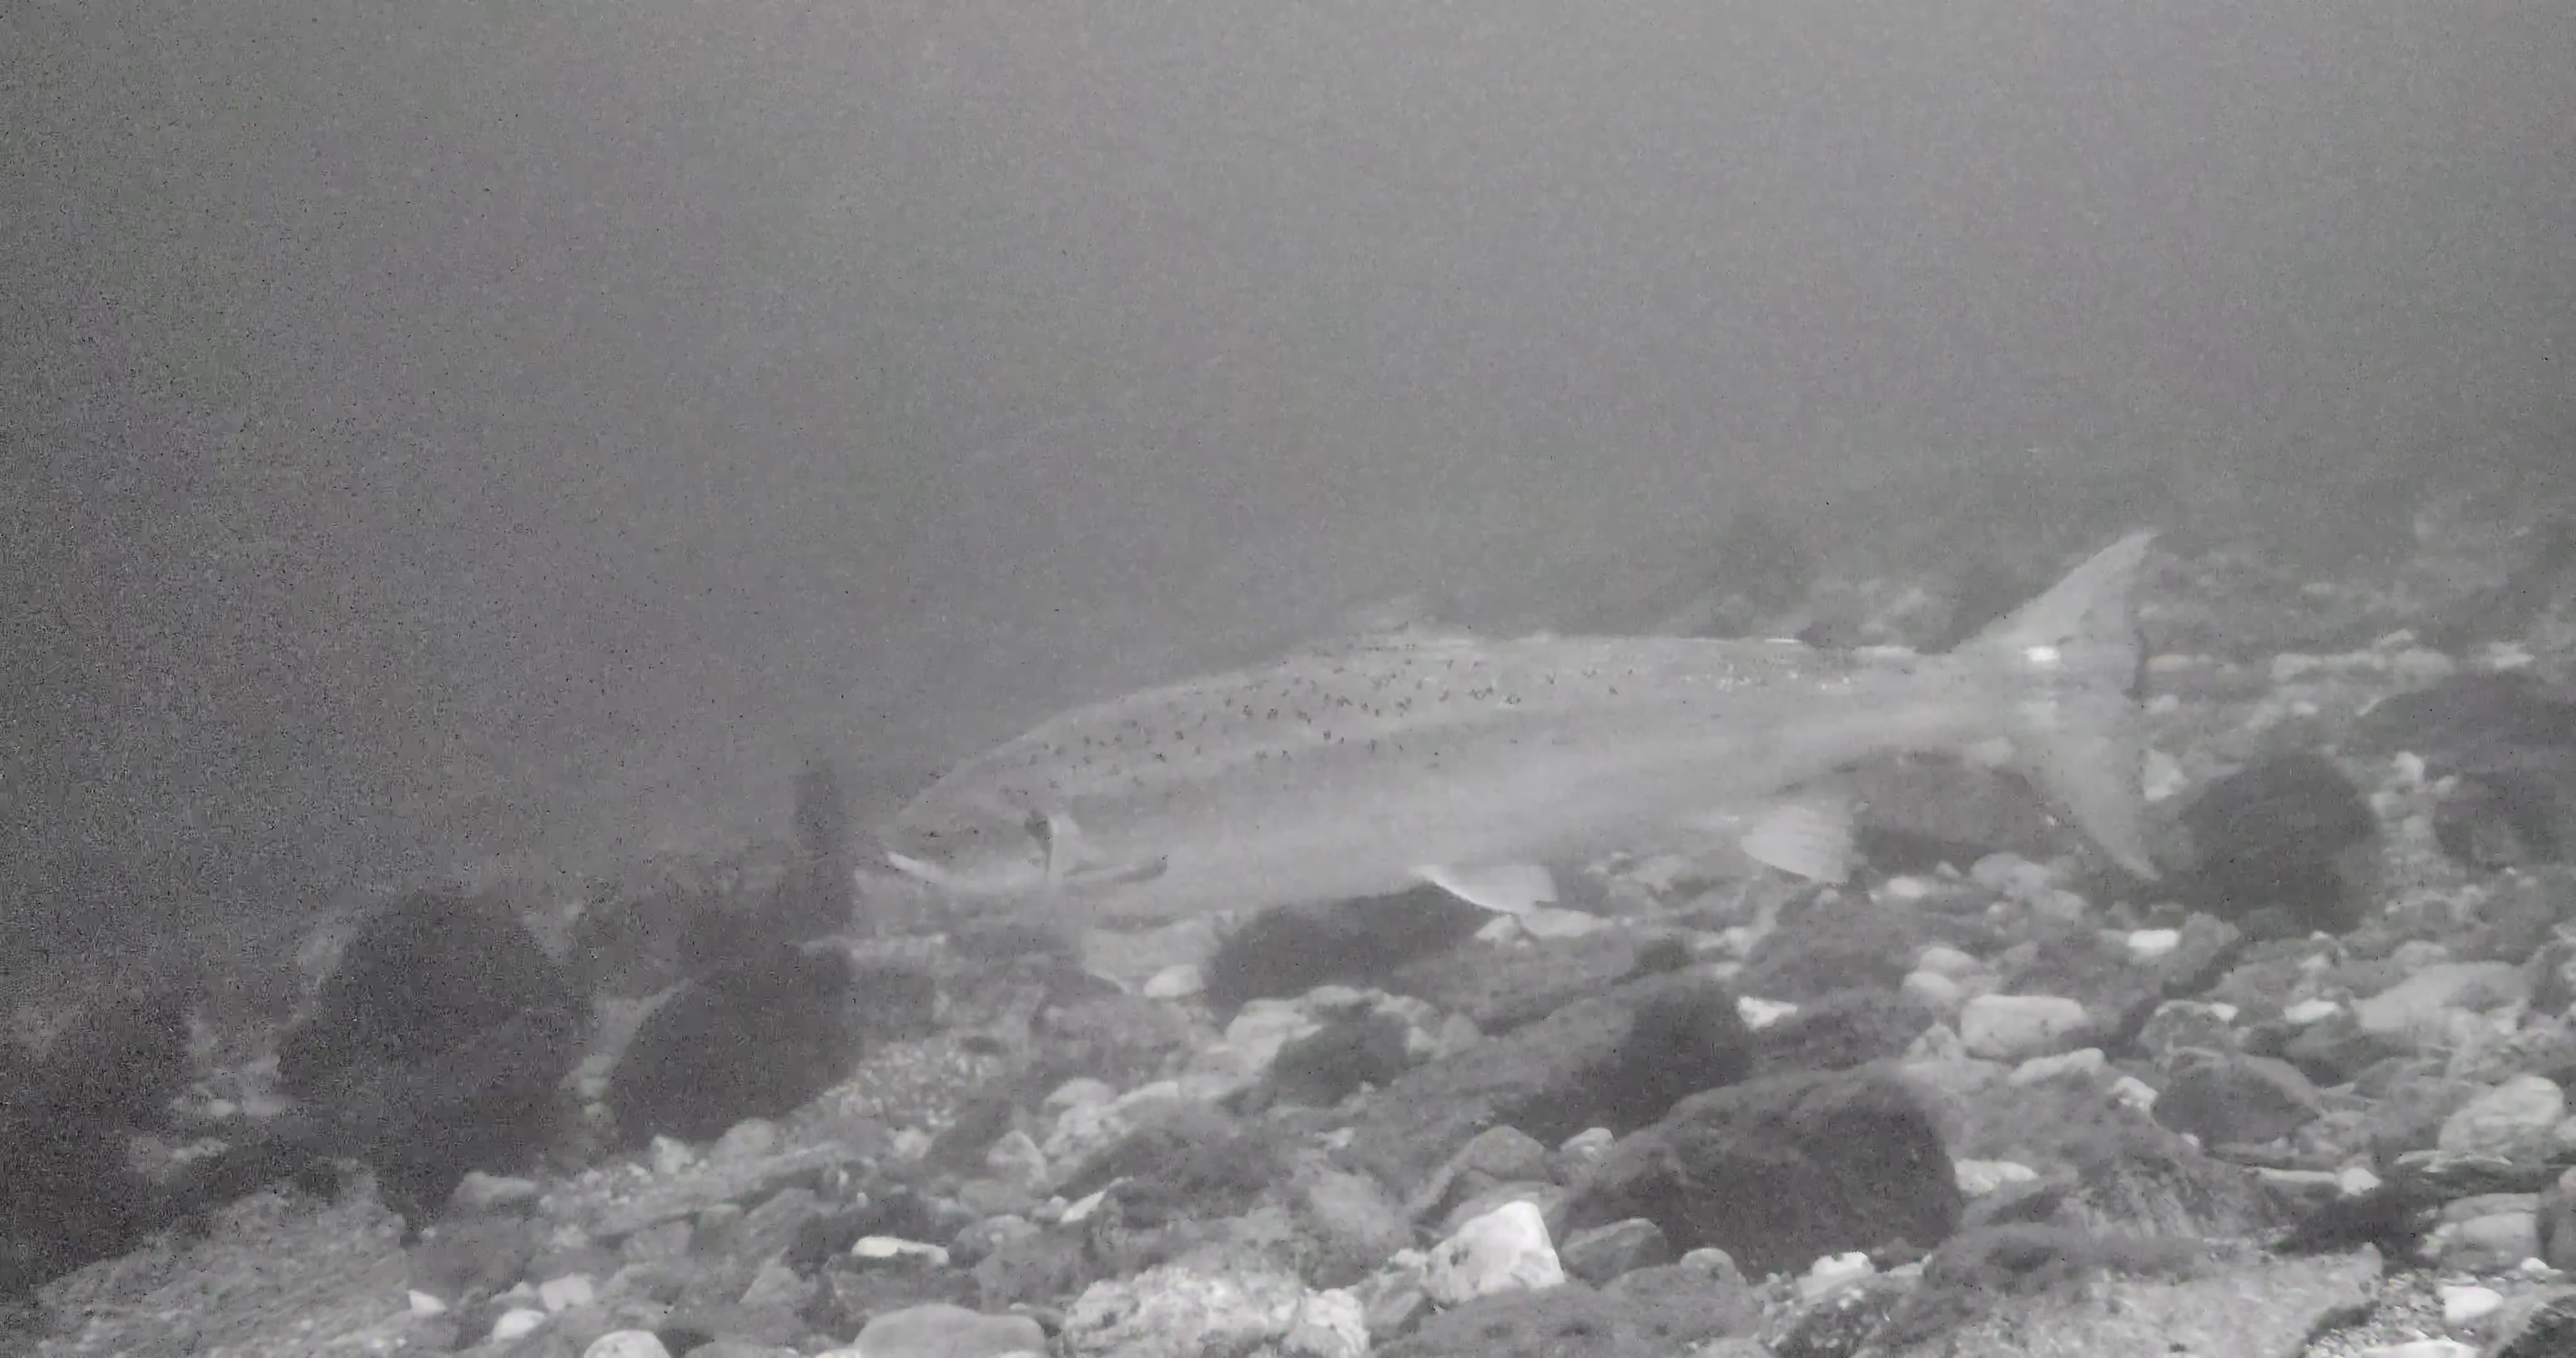salmon: (877, 525, 2179, 918)
